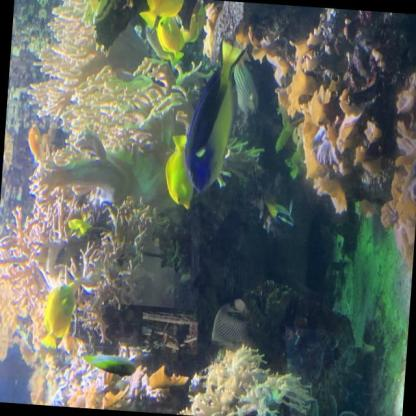fish: (182, 35, 249, 198), (41, 277, 79, 353), (163, 134, 198, 210), (210, 296, 250, 350), (154, 18, 188, 63), (84, 350, 138, 378), (140, 0, 186, 32), (261, 197, 297, 233), (27, 123, 43, 160)
